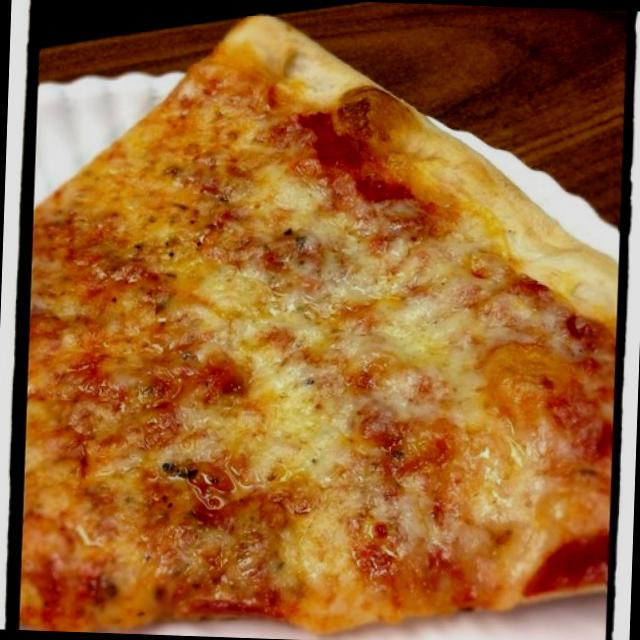pizza: (21, 16, 616, 634)
